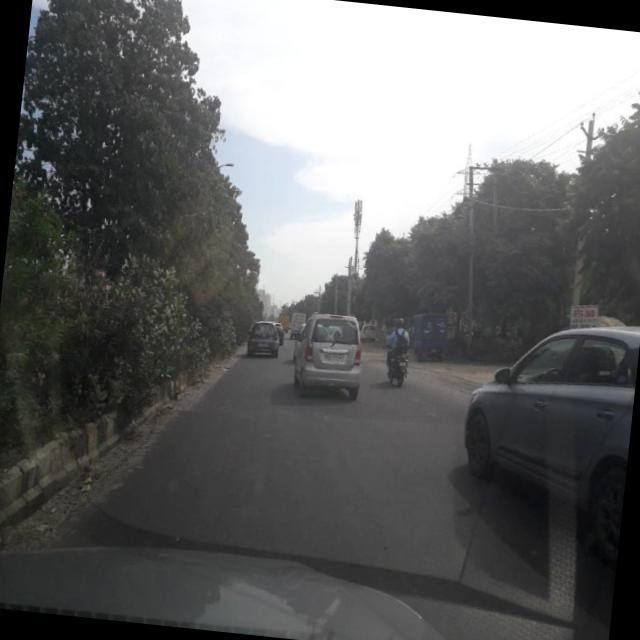crack: (144, 387, 482, 590)
